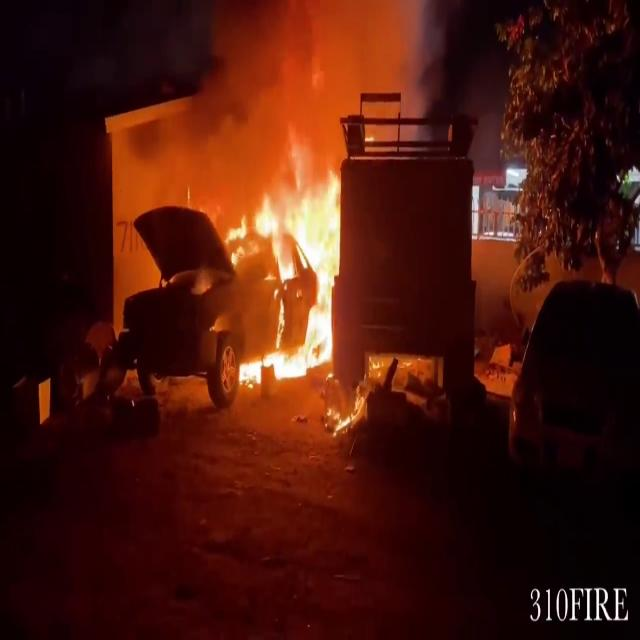Fire: (228, 155, 352, 389)
Smoke: (188, 0, 400, 165)
